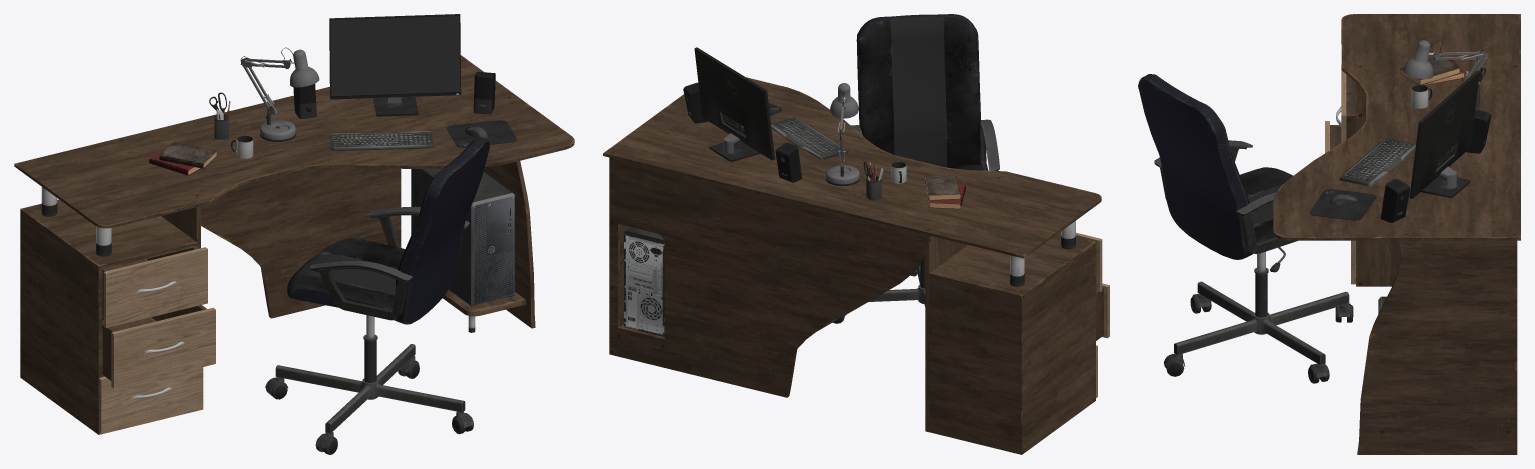
The model's file is computer_desk-transformed.glb.
3 views of the same model, side by side, from view 1: azimuth 30°, elevation 25°; view 2: azimuth 150°, elevation 25°; view 3: azimuth 270°, elevation 25° (orthographic). The views are drawn at different scales.
Parts seen in each view (by area): view 1: Desk_Desk_0, Chair_Chair_0, Monitor_Monitor_0, Computer_Computer_0, DeskLamp_DeskLamp_0, Keyboard_Keyboard_0, Mouse_Mouse_0, Book01_Book01_0, Loudspeaker02_Loudspeaker02_0, Loudspeaker01_Loudspeaker01_0, StationeryCup_StationeryCup_0; view 2: Desk_Desk_0, Chair_Chair_0, Monitor_Monitor_0, Computer_Computer_0, Keyboard_Keyboard_0, DeskLamp_DeskLamp_0, Book01_Book01_0, Loudspeaker01_Loudspeaker01_0, Loudspeaker02_Loudspeaker02_0, StationeryCup_StationeryCup_0; view 3: Desk_Desk_0, Chair_Chair_0, Monitor_Monitor_0, Keyboard_Keyboard_0, Mouse_Mouse_0, DeskLamp_DeskLamp_0, Loudspeaker02_Loudspeaker02_0, Book01_Book01_0, Loudspeaker01_Loudspeaker01_0, Cup_Cup_0.
Boxes of the visible parts, <box> form: Desk_Desk_0: <box>14,55,574,434</box>; Chair_Chair_0: <box>265,137,489,454</box>; Monitor_Monitor_0: <box>329,14,461,116</box>; Computer_Computer_0: <box>411,168,514,306</box>; DeskLamp_DeskLamp_0: <box>240,47,319,141</box>; Keyboard_Keyboard_0: <box>329,131,433,150</box>; Mouse_Mouse_0: <box>446,120,517,147</box>; Book01_Book01_0: <box>159,142,217,168</box>; Loudspeaker02_Loudspeaker02_0: <box>473,71,495,114</box>; Loudspeaker01_Loudspeaker01_0: <box>293,83,316,118</box>; StationeryCup_StationeryCup_0: <box>209,92,230,139</box>; Desk_Desk_0: <box>603,77,1109,454</box>; Chair_Chair_0: <box>833,14,999,323</box>; Monitor_Monitor_0: <box>694,47,774,161</box>; Computer_Computer_0: <box>624,227,664,336</box>; Keyboard_Keyboard_0: <box>771,117,848,159</box>; DeskLamp_DeskLamp_0: <box>825,83,859,186</box>; Book01_Book01_0: <box>924,174,960,200</box>; Loudspeaker01_Loudspeaker01_0: <box>775,142,802,182</box>; Loudspeaker02_Loudspeaker02_0: <box>683,82,708,123</box>; StationeryCup_StationeryCup_0: <box>863,161,883,200</box>; Desk_Desk_0: <box>1273,14,1520,454</box>; Chair_Chair_0: <box>1138,74,1353,383</box>; Monitor_Monitor_0: <box>1409,70,1479,198</box>; Keyboard_Keyboard_0: <box>1339,138,1415,186</box>; Mouse_Mouse_0: <box>1309,189,1376,220</box>; DeskLamp_DeskLamp_0: <box>1403,40,1487,82</box>; Loudspeaker02_Loudspeaker02_0: <box>1380,178,1409,222</box>; Book01_Book01_0: <box>1400,56,1460,84</box>; Loudspeaker01_Loudspeaker01_0: <box>1465,109,1491,153</box>; Cup_Cup_0: <box>1411,85,1432,108</box>.
Bounding box in the file's own units: 2.13 × 1.39 × 1.54.
Materials: 14 (14 with a texture image).
